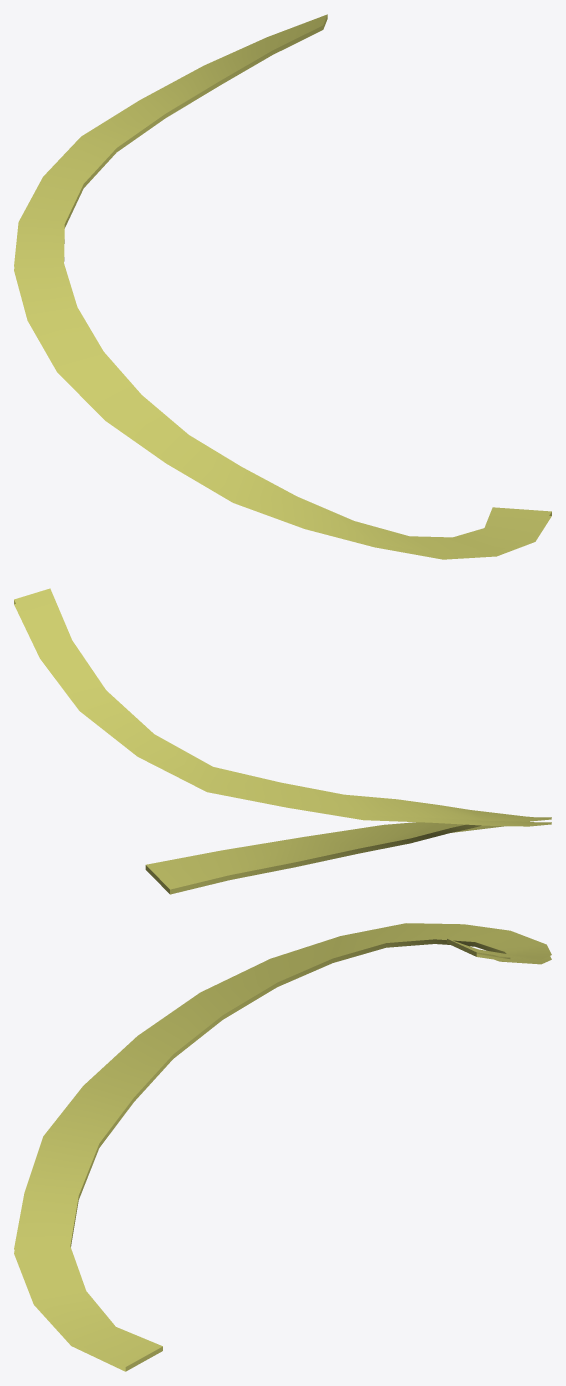
The model's file is repisa_greda.fbx.
The picture shows the model from 3 angles, top to bottom: view 1: azimuth 30°, elevation 25°; view 2: azimuth 150°, elevation 25°; view 3: azimuth 270°, elevation 25°; orthographic projection. The views are drawn at different scales.
Visible parts, largest first — view 1: polySurface49; view 2: polySurface49; view 3: polySurface49.
Part boxes in pixels (x1,y1,x2,y2): polySurface49: (14, 14, 551, 559); polySurface49: (14, 588, 551, 894); polySurface49: (14, 923, 551, 1371).
Bounding box in the file's own units: 13.58 × 14.69 × 12.
